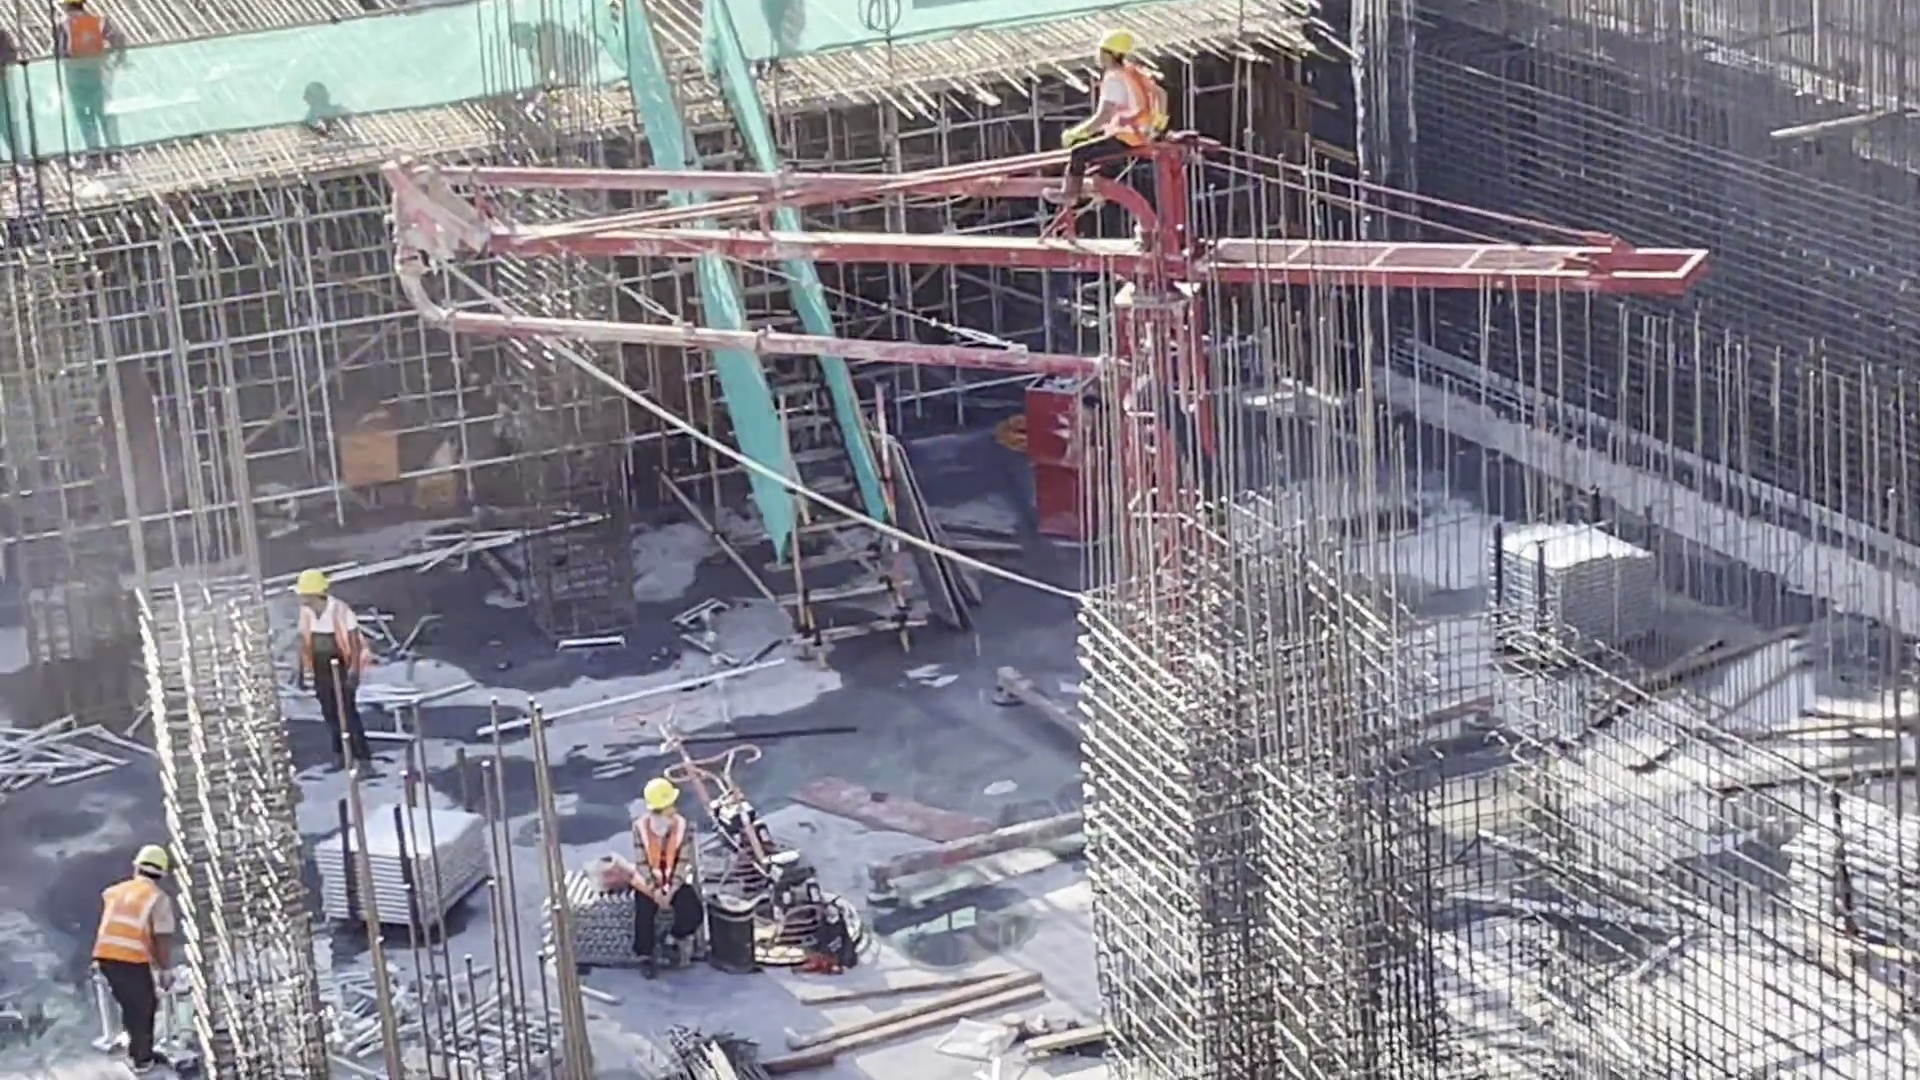helmet: (649, 751, 686, 804), (1088, 12, 1129, 56), (311, 581, 346, 621), (166, 842, 178, 874)
person: (94, 833, 178, 1056), (306, 526, 381, 766), (1089, 43, 1168, 270), (42, 1, 131, 175), (636, 771, 699, 920)
scaffold: (1506, 506, 1663, 679), (1784, 786, 1920, 972), (348, 827, 493, 959), (563, 877, 654, 974)
vest: (123, 877, 178, 962), (639, 802, 698, 881), (319, 601, 373, 677), (1116, 72, 1161, 157)
